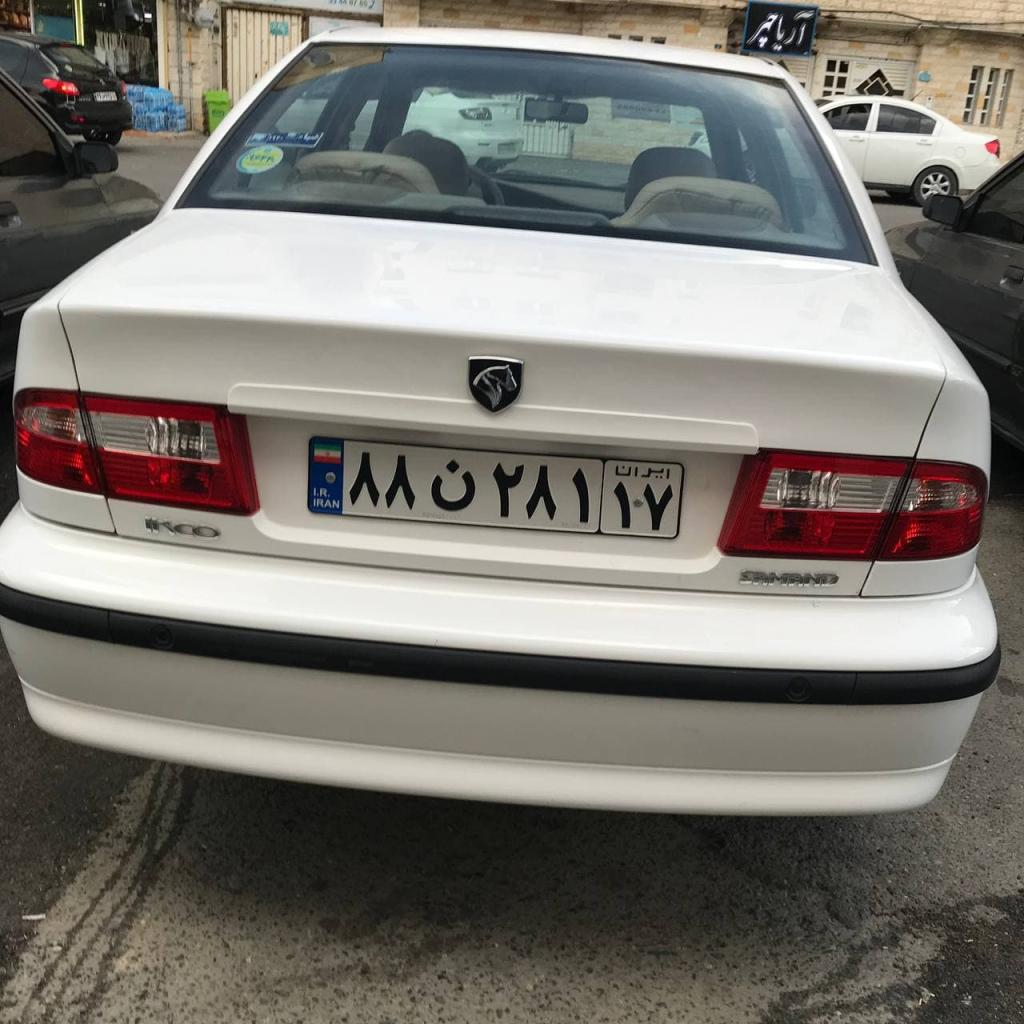Plates: (307, 434, 683, 536)
